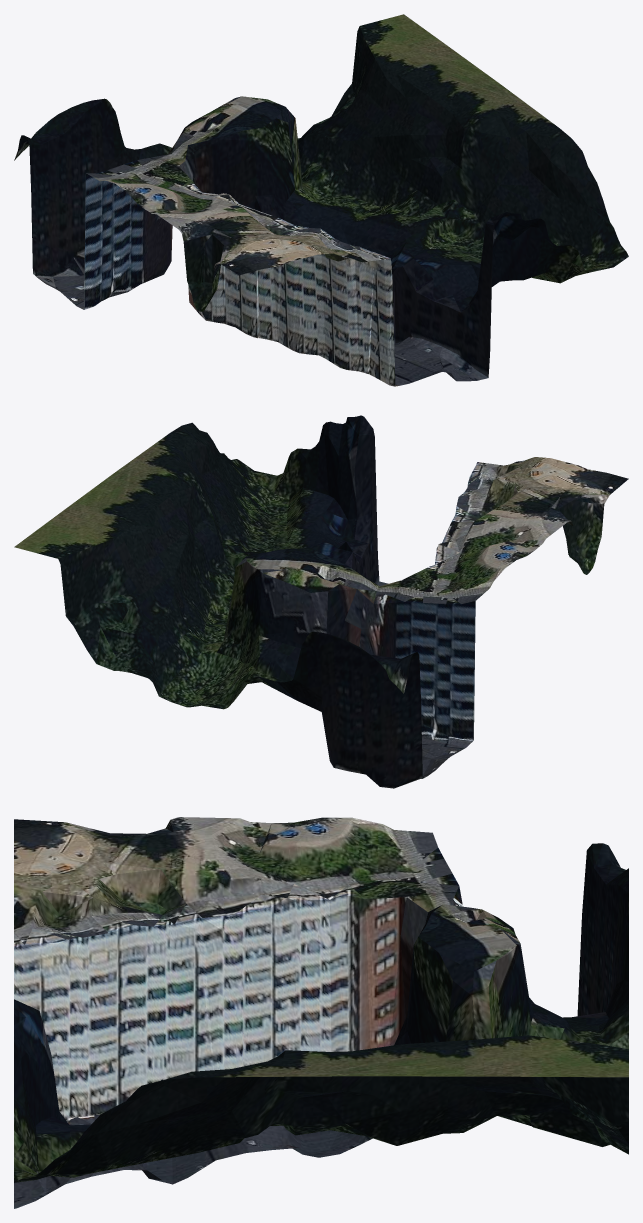
Rendered from map_15_8177_13790.dae.
3 views of the same model, one above another, from view 1: azimuth 30°, elevation 25°; view 2: azimuth 150°, elevation 25°; view 3: azimuth 270°, elevation 25° (orthographic). The views are drawn at different scales.
Parts seen in each view (by area): view 1: Ter0; view 2: Ter0; view 3: Ter0.
Part boxes in pixels (<box>): Ter0: <box>14,14,628,386</box>; Ter0: <box>14,415,628,788</box>; Ter0: <box>14,817,628,1208</box>.
Bounding box in the file's own units: 63.87 × 63.88 × 25.94.
Materials: 4 (4 with a texture image).
